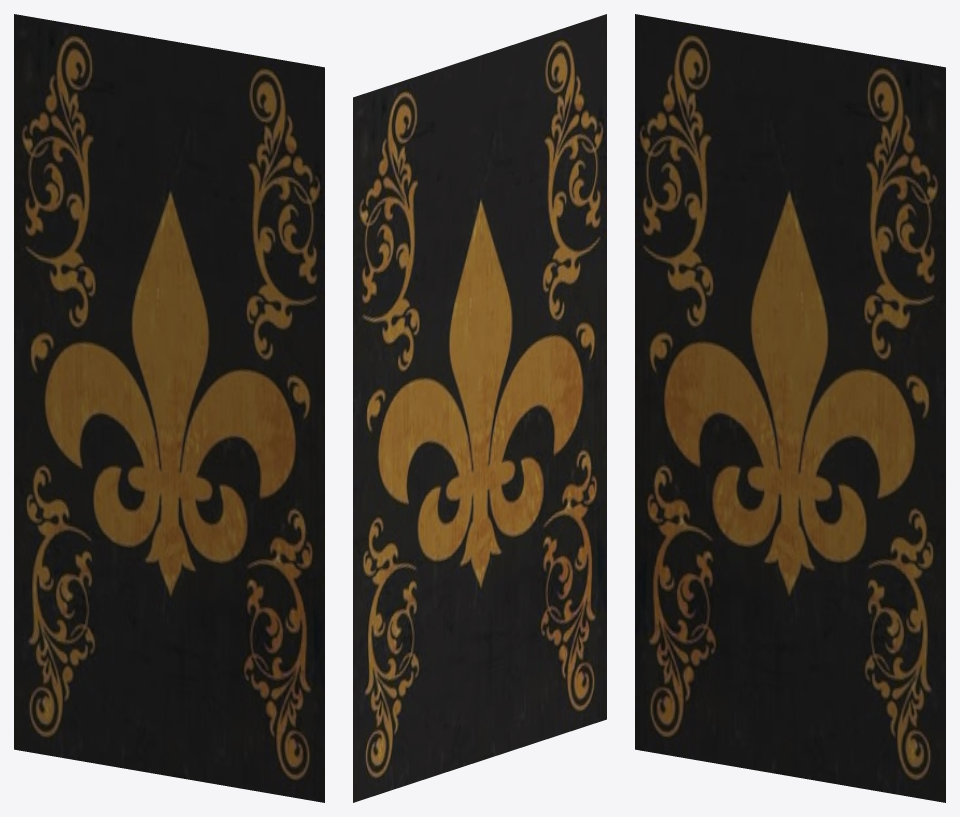
Rendered from plane_lev3.glb.
The picture shows the model from 3 angles, left to right: view 1: azimuth 90°, elevation 25°; view 2: azimuth 150°, elevation 25°; view 3: azimuth 270°, elevation 25°; orthographic projection. The views are drawn at different scales.
Parts seen in each view (by area): view 1: plane_lev3; view 2: plane_lev3; view 3: plane_lev3.
Part boxes in pixels (x1,y1,x2,y2): plane_lev3: [14, 14, 324, 802]; plane_lev3: [353, 14, 606, 802]; plane_lev3: [635, 14, 945, 802].
Size of the model in its own units: 1.29 by 8.28 by 3.17.
Materials: 1 (1 with a texture image).
